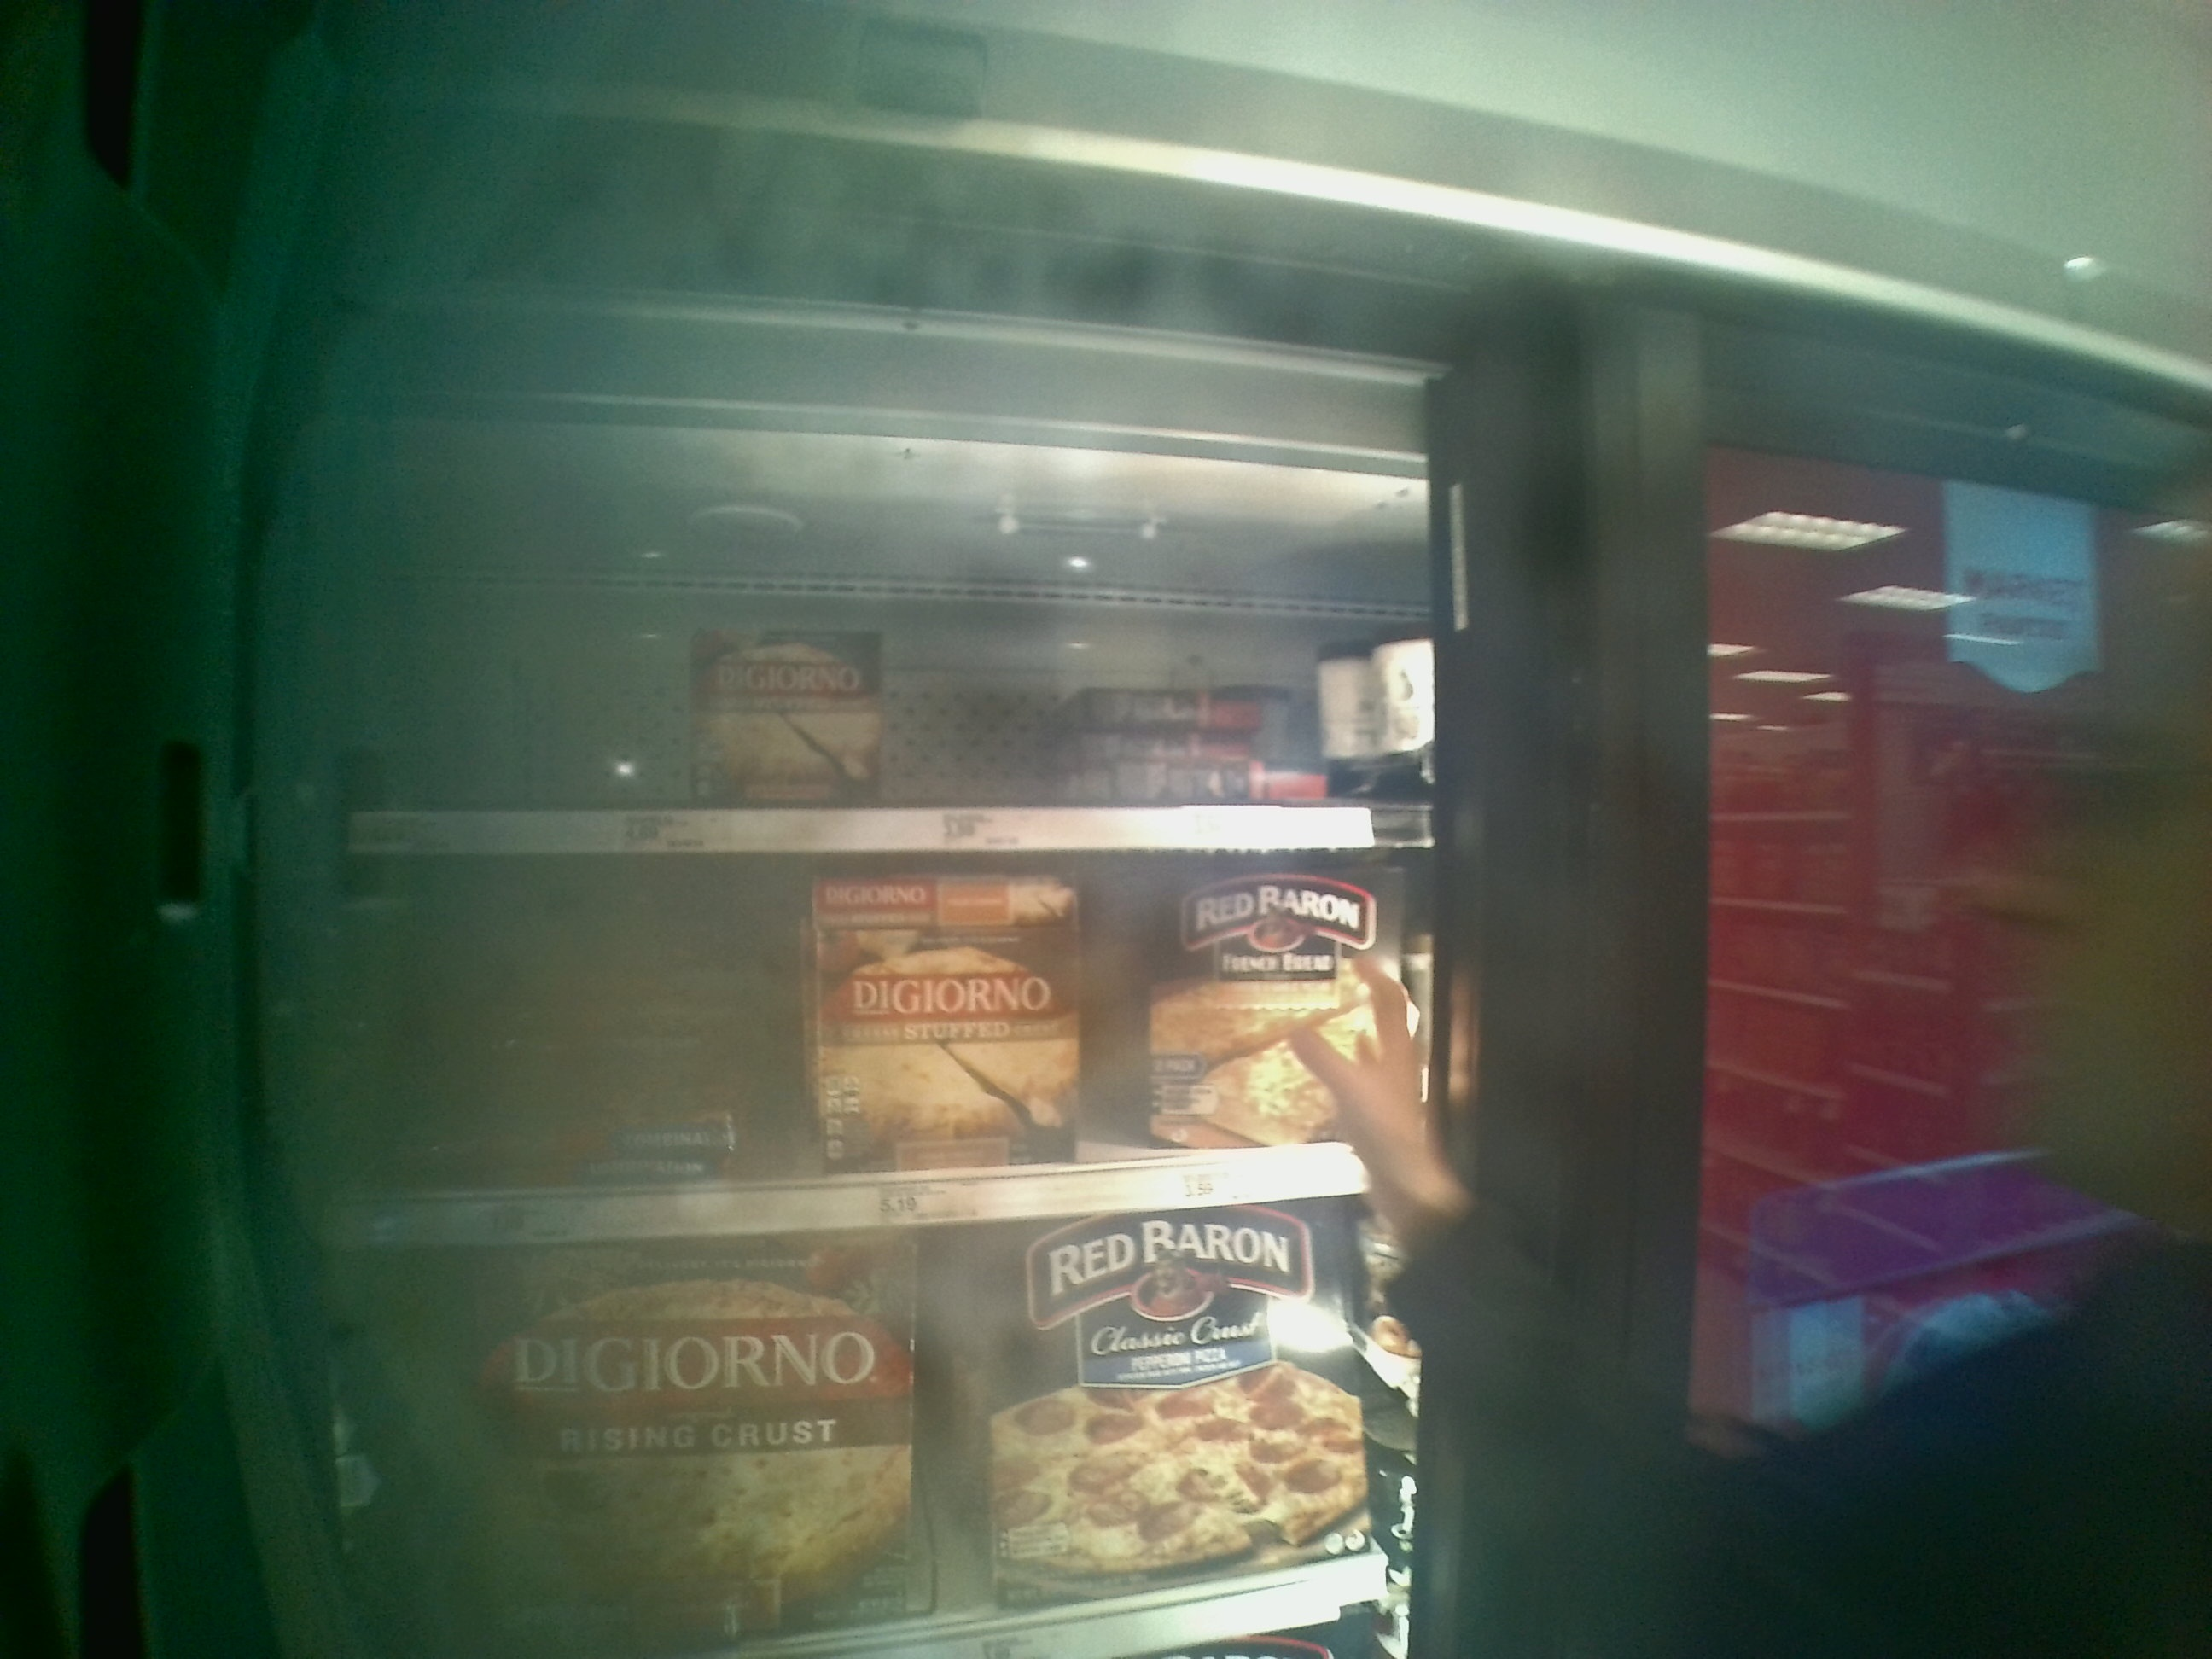shelf: (336, 434, 1430, 850)
